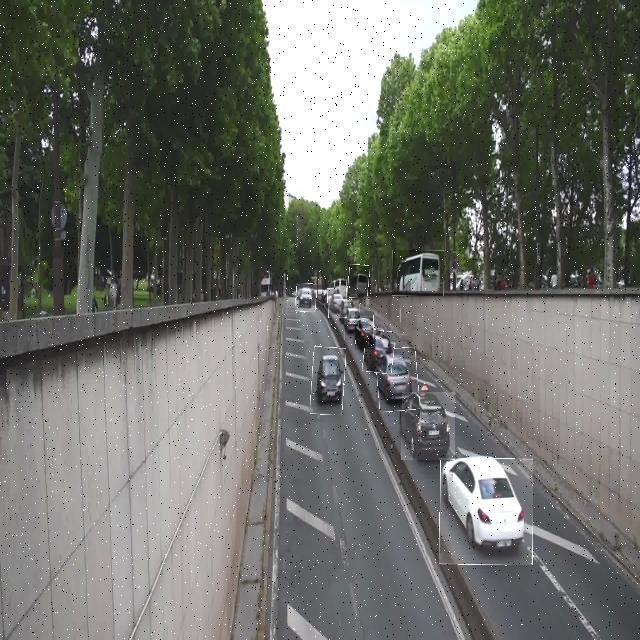Bus: (392, 250, 444, 296), (348, 265, 370, 298)
Car: (440, 458, 533, 565), (402, 392, 456, 460), (376, 348, 420, 411), (311, 346, 345, 415), (363, 330, 394, 374), (355, 312, 374, 349), (344, 304, 360, 340), (328, 288, 347, 318), (296, 284, 316, 312)
